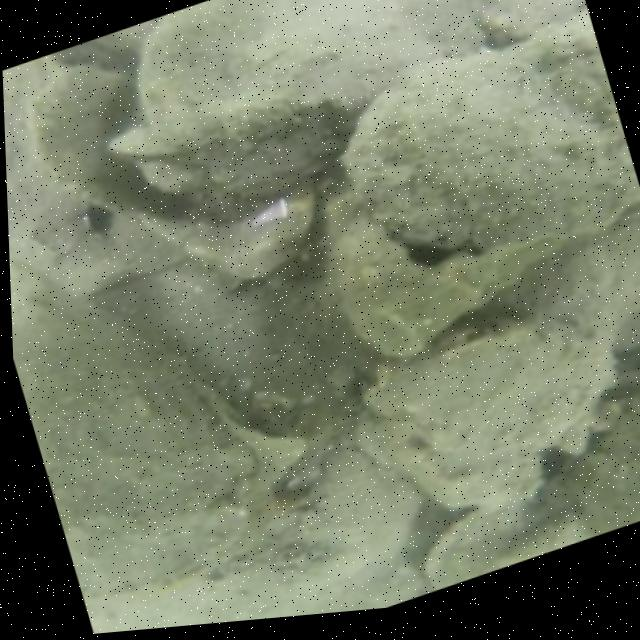Oyster-Closed: (10, 261, 255, 603)
Oyster-Indeterminate: (26, 62, 322, 285), (344, 49, 617, 256), (367, 302, 618, 509), (133, 0, 446, 144), (122, 69, 379, 207), (176, 447, 409, 597), (495, 221, 640, 346)
